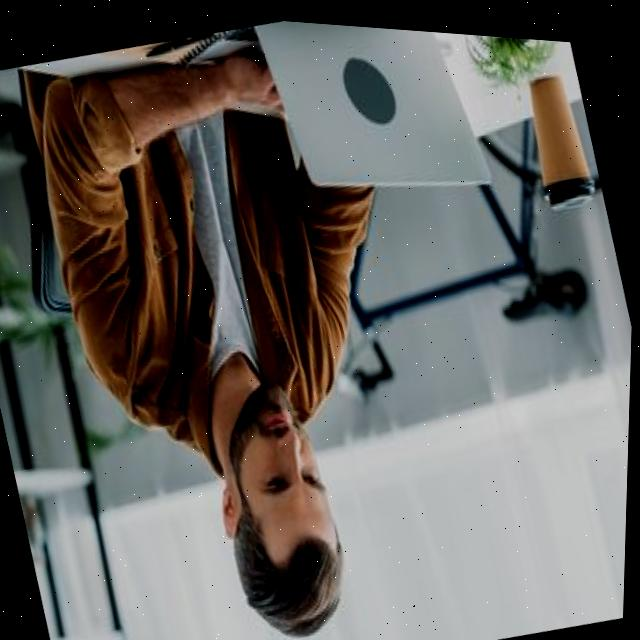notebook-person: (0, 0, 607, 640)
